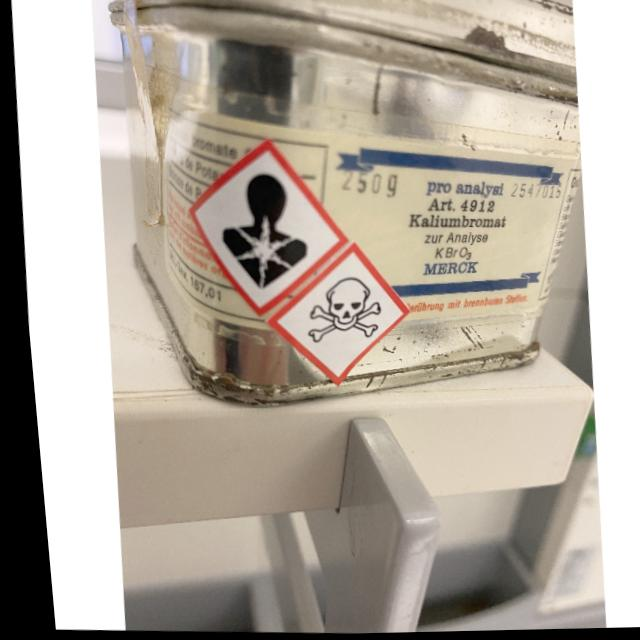acute toxicity: (297, 275, 379, 346)
serious health hazard: (210, 171, 309, 292)
